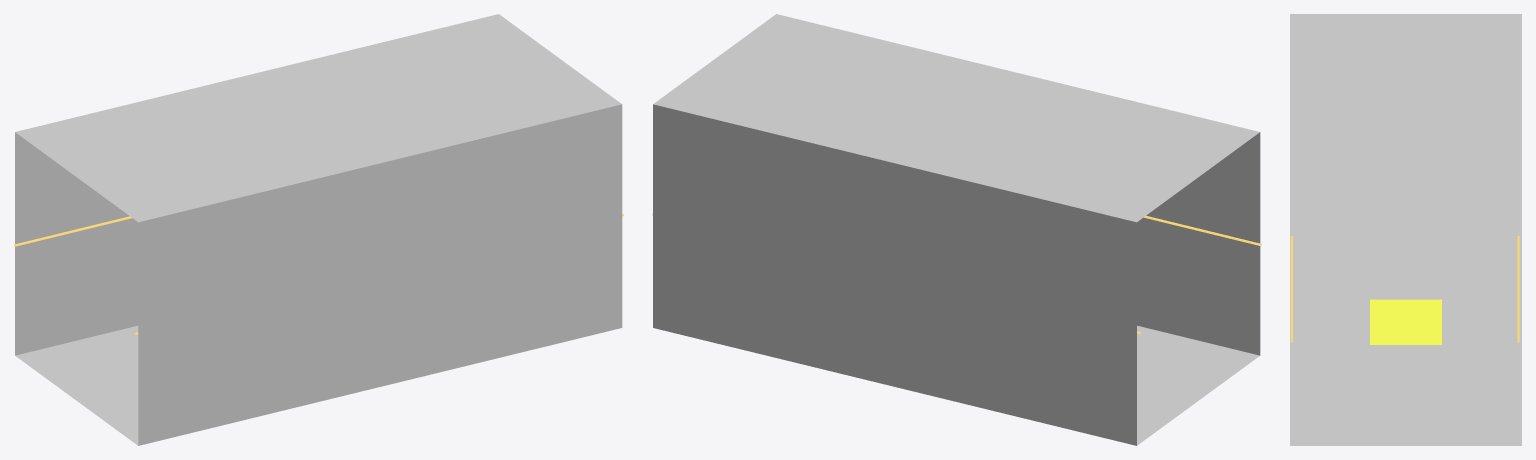
3 views of the same model, side by side, from view 1: azimuth 30°, elevation 25°; view 2: azimuth 150°, elevation 25°; view 3: azimuth 270°, elevation 25° (orthographic). The views are drawn at different scales.
Visible parts, largest first — view 1: Cube; view 2: Cube; view 3: Cube, Plan, Cylindre.002, Cylindre.
Part boxes in pixels (x1,y1,x2,y2): Cube: (15,14,622,445); Cube: (653,14,1260,445); Cube: (1290,14,1521,445); Plan: (1370,299,1441,344); Cylindre.002: (1517,236,1519,342); Cylindre: (1290,236,1292,342).
Bounding box in the file's own units: 4.57 × 2 × 2.
